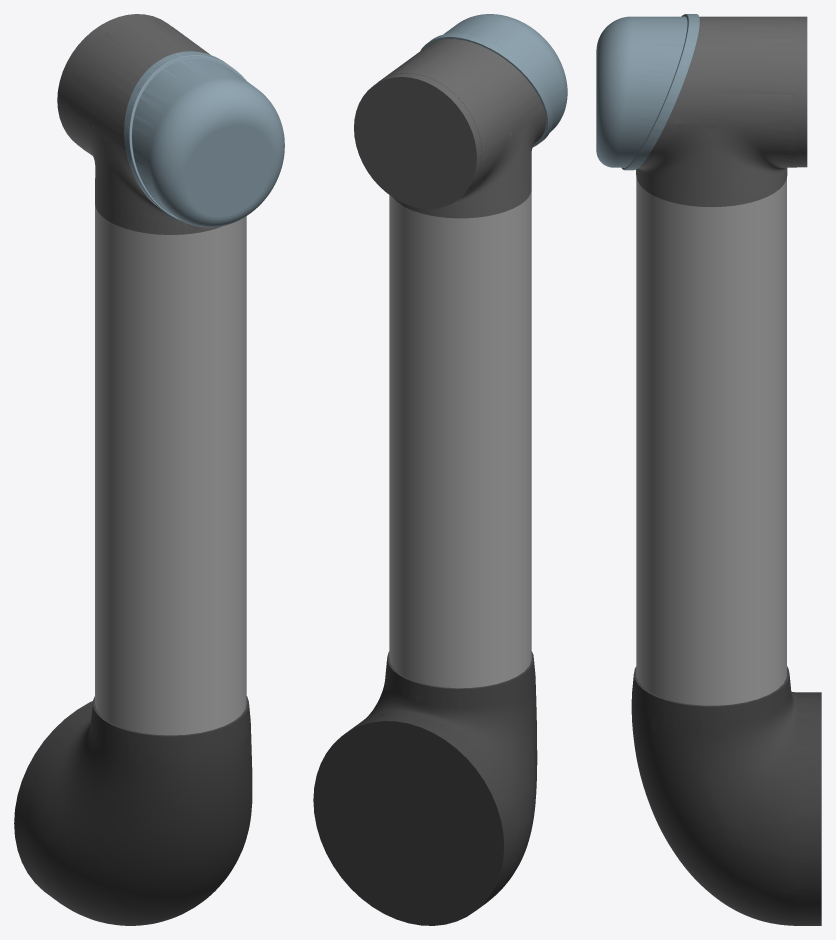
Rendered from forearm.dae.
3 views of the same model, side by side, from view 1: azimuth 30°, elevation 25°; view 2: azimuth 150°, elevation 25°; view 3: azimuth 270°, elevation 25° (orthographic). The views are drawn at different scales.
Visible parts, largest first — view 1: Actor1, Actor3, Actor0_001, Actor2; view 2: Actor1, Actor3, Actor2, Actor0_001; view 3: Actor1, Actor3, Actor2, Actor0_001.
Part boxes in pixels (x1=…): Actor1: x1=95, y1=204, x2=246, y2=735; Actor3: x1=14, y1=696, x2=252, y2=925; Actor0_001: x1=124, y1=51, x2=284, y2=227; Actor2: x1=57, y1=14, x2=222, y2=234; Actor1: x1=389, y1=191, x2=531, y2=688; Actor3: x1=313, y1=651, x2=537, y2=925; Actor2: x1=354, y1=39, x2=545, y2=218; Actor0_001: x1=420, y1=14, x2=567, y2=147; Actor1: x1=636, y1=178, x2=786, y2=705; Actor3: x1=631, y1=666, x2=821, y2=925; Actor2: x1=636, y1=16, x2=807, y2=207; Actor0_001: x1=596, y1=14, x2=699, y2=170.
Size of the model in its own units: 0.116 by 0.1117 by 0.4892.
